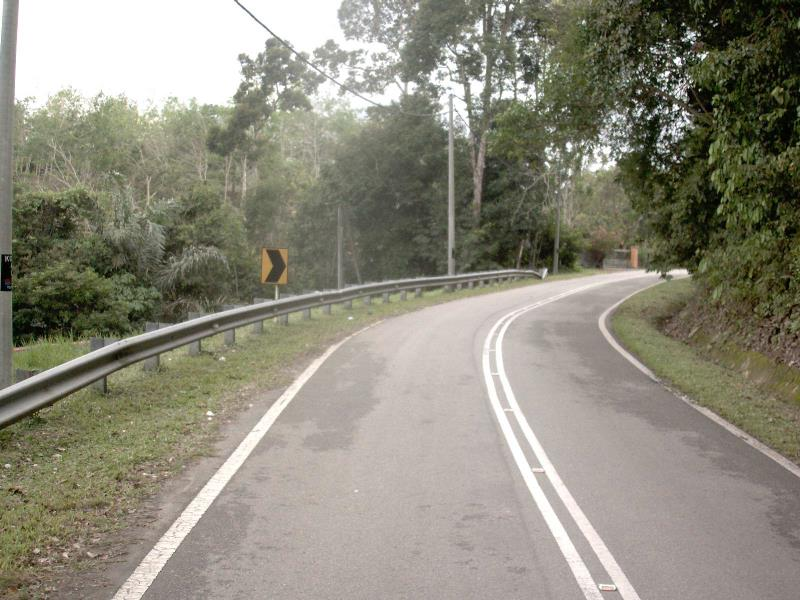traffic_sign: (253, 238, 296, 294)
